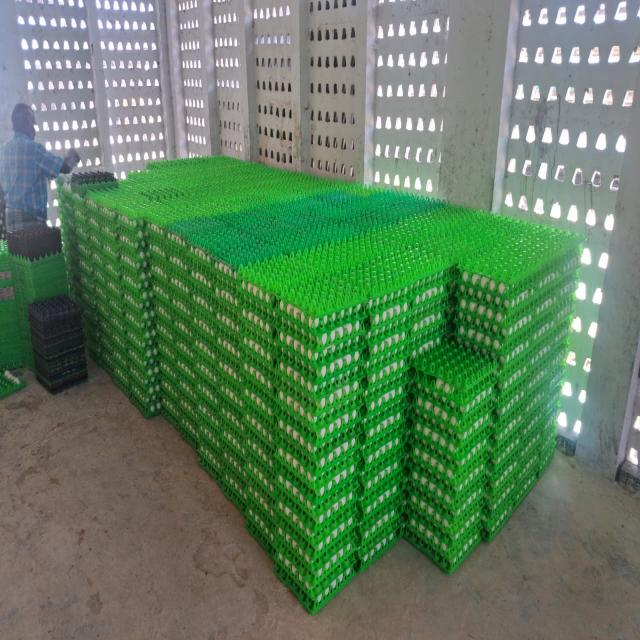egg_tray: (502, 3, 640, 441), (456, 255, 575, 537), (154, 231, 252, 508), (275, 301, 364, 599), (185, 245, 272, 509), (153, 225, 246, 454), (406, 343, 494, 570), (172, 194, 368, 292), (274, 301, 364, 499), (456, 256, 576, 394), (358, 287, 415, 568), (276, 315, 362, 499), (192, 260, 254, 512), (486, 341, 566, 534), (372, 3, 448, 195), (16, 2, 103, 167), (183, 243, 245, 473), (232, 275, 281, 558), (364, 274, 446, 435), (456, 255, 578, 363), (94, 0, 166, 179), (254, 228, 400, 315), (412, 342, 496, 490), (236, 276, 280, 556), (274, 410, 359, 552), (274, 464, 358, 599), (148, 227, 199, 447), (274, 300, 365, 422), (488, 357, 561, 509), (363, 217, 452, 337), (304, 2, 364, 179), (492, 325, 568, 462), (460, 222, 580, 308), (366, 270, 450, 387), (483, 407, 556, 541), (461, 234, 580, 315), (250, 0, 306, 168), (274, 483, 357, 591), (116, 215, 161, 414), (274, 484, 357, 591), (410, 405, 490, 515), (492, 347, 566, 464), (168, 233, 222, 391), (60, 188, 109, 361), (404, 467, 484, 571), (496, 302, 570, 414), (272, 463, 358, 559), (488, 257, 577, 349), (358, 399, 406, 568), (496, 313, 570, 421), (416, 341, 496, 439), (276, 407, 361, 499), (195, 265, 246, 414), (234, 283, 278, 453), (218, 352, 274, 485), (362, 287, 413, 424), (414, 378, 492, 467), (10, 250, 68, 369), (196, 263, 244, 404), (359, 401, 407, 534), (60, 189, 99, 351), (148, 225, 179, 427), (277, 456, 358, 533), (404, 494, 482, 572), (198, 391, 248, 512), (360, 396, 409, 519), (275, 527, 356, 601), (364, 287, 412, 411), (238, 277, 278, 423), (360, 398, 407, 520), (484, 406, 526, 539), (28, 296, 86, 390), (362, 366, 409, 475), (357, 469, 406, 569), (148, 223, 176, 388), (520, 372, 560, 486), (274, 559, 356, 613), (77, 202, 121, 302), (70, 257, 112, 361), (409, 267, 456, 357), (244, 334, 278, 457), (362, 333, 410, 418), (488, 390, 528, 492), (82, 279, 126, 370), (115, 330, 161, 416), (244, 385, 280, 485), (246, 446, 278, 558), (83, 287, 126, 370), (121, 329, 161, 416), (524, 336, 568, 415), (79, 239, 122, 319), (166, 234, 196, 346), (366, 283, 422, 343), (489, 406, 526, 495), (146, 223, 187, 303), (121, 257, 156, 345), (83, 301, 124, 376), (10, 251, 68, 303), (65, 195, 116, 254), (239, 277, 276, 358), (218, 407, 246, 513), (0, 241, 22, 370), (60, 189, 84, 307), (194, 349, 221, 451), (76, 231, 118, 295), (482, 462, 516, 541), (80, 199, 120, 259), (196, 406, 224, 489), (158, 341, 184, 429), (530, 309, 570, 365), (158, 339, 182, 429), (121, 250, 154, 310), (98, 302, 128, 366), (88, 258, 122, 314), (58, 185, 84, 250), (128, 344, 159, 394), (92, 246, 122, 297), (116, 214, 148, 260), (537, 407, 558, 477), (68, 169, 118, 197), (92, 226, 120, 274), (147, 222, 170, 280), (514, 461, 538, 510), (76, 239, 100, 278), (0, 371, 24, 399), (0, 240, 13, 289), (48, 182, 59, 221), (414, 468, 432, 484), (498, 376, 514, 391), (98, 268, 110, 286), (341, 437, 356, 448), (132, 316, 143, 328), (364, 456, 378, 465), (214, 453, 224, 464), (58, 177, 67, 188), (372, 312, 379, 325), (228, 460, 237, 470), (89, 246, 98, 255), (86, 297, 94, 307), (308, 289, 318, 297), (208, 451, 214, 463), (276, 260, 284, 267), (506, 483, 512, 492), (158, 247, 164, 256), (410, 471, 416, 480), (234, 479, 239, 489), (458, 447, 464, 455), (448, 467, 454, 474), (81, 271, 87, 277), (219, 266, 225, 272), (326, 423, 332, 429), (394, 239, 400, 245), (263, 425, 268, 432), (19, 308, 26, 313), (496, 317, 502, 322), (338, 523, 344, 528), (83, 282, 87, 289), (61, 187, 68, 191), (228, 274, 232, 281), (366, 460, 374, 463), (214, 387, 220, 391), (230, 323, 234, 329), (176, 298, 182, 302), (394, 246, 398, 252), (547, 386, 551, 392), (555, 397, 558, 404), (197, 425, 201, 430), (82, 279, 87, 283), (221, 383, 226, 387), (252, 417, 255, 423), (478, 279, 482, 283), (78, 245, 82, 249), (88, 299, 92, 303), (519, 495, 523, 499), (300, 263, 304, 267), (468, 495, 472, 499), (380, 307, 384, 311), (212, 431, 216, 435), (222, 73, 226, 77), (334, 477, 337, 482), (476, 292, 479, 297), (224, 284, 229, 287), (497, 430, 502, 433), (82, 280, 86, 283), (114, 334, 116, 340), (200, 445, 204, 448), (522, 424, 526, 427), (604, 287, 606, 293), (58, 191, 60, 197), (118, 313, 121, 317), (227, 283, 230, 287), (114, 260, 117, 264), (388, 304, 392, 307), (437, 465, 440, 469), (372, 451, 378, 453), (327, 534, 330, 538), (278, 527, 281, 531), (248, 9, 250, 15), (84, 269, 86, 274), (252, 350, 255, 353), (261, 419, 264, 422), (176, 304, 179, 307), (443, 240, 446, 243), (205, 443, 208, 446), (249, 61, 252, 64), (134, 309, 136, 313), (496, 395, 498, 399), (176, 425, 180, 427), (522, 425, 526, 427), (96, 244, 98, 248), (546, 269, 548, 273), (81, 256, 83, 259), (236, 482, 238, 485), (492, 496, 494, 499), (171, 419, 174, 421), (185, 291, 188, 293), (560, 362, 562, 365), (444, 370, 446, 373), (440, 367, 442, 370), (389, 319, 392, 321), (209, 451, 212, 453), (225, 135, 226, 141), (503, 371, 504, 376), (158, 407, 160, 409), (278, 477, 280, 479), (230, 343, 231, 347), (123, 380, 125, 382), (256, 450, 258, 452), (362, 26, 364, 28), (507, 256, 508, 259), (165, 402, 168, 403), (622, 184, 623, 187), (81, 263, 82, 266), (546, 438, 547, 441), (98, 256, 101, 257), (100, 252, 102, 253), (61, 189, 62, 191), (0, 391, 1, 393), (261, 487, 263, 488), (523, 365, 524, 367), (104, 293, 106, 294), (192, 269, 193, 271), (242, 351, 244, 352), (307, 274, 309, 275), (544, 269, 546, 270), (209, 437, 210, 439), (241, 11, 243, 12), (551, 404, 552, 405), (167, 373, 168, 374), (256, 498, 257, 499), (447, 434, 448, 435), (507, 326, 507, 327), (523, 265, 523, 266), (79, 234, 79, 235), (545, 403, 545, 403), (636, 96, 636, 99), (78, 199, 78, 199), (96, 162, 96, 164), (172, 416, 172, 417), (205, 397, 205, 399), (118, 273, 118, 279), (172, 301, 173, 301), (245, 496, 245, 498), (196, 284, 196, 286), (176, 386, 176, 389), (239, 280, 239, 281), (370, 397, 370, 397), (536, 457, 536, 460), (448, 521, 448, 523), (14, 23, 14, 23), (418, 345, 419, 345), (447, 385, 447, 385), (478, 309, 478, 310), (419, 473, 419, 475)
